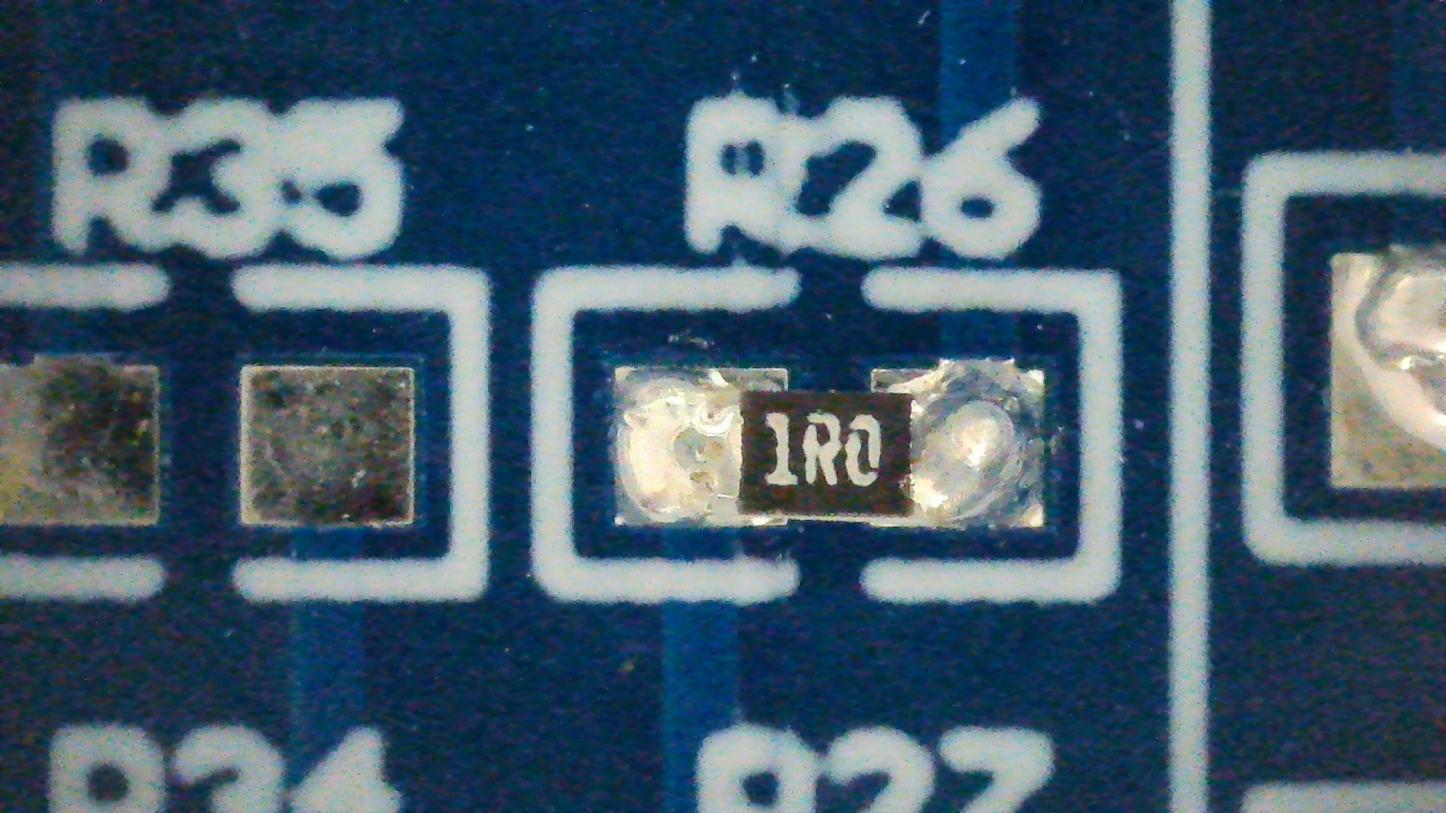OK: (614, 358, 1043, 527)
